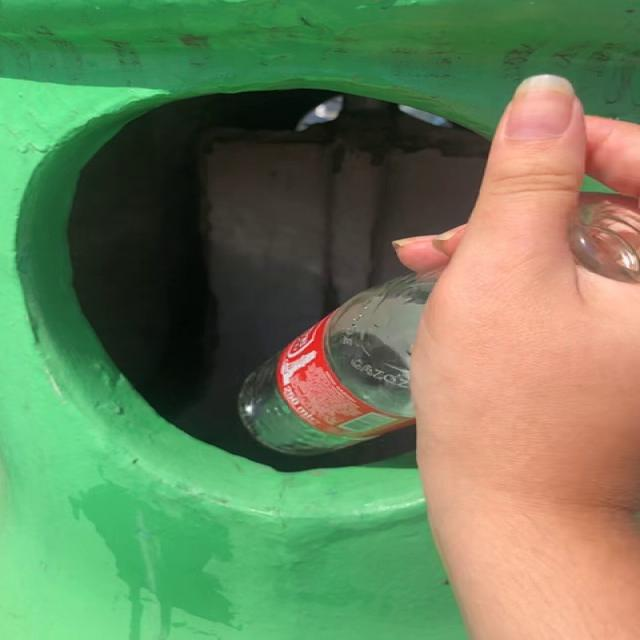glass: (239, 272, 437, 456), (569, 193, 639, 284)
